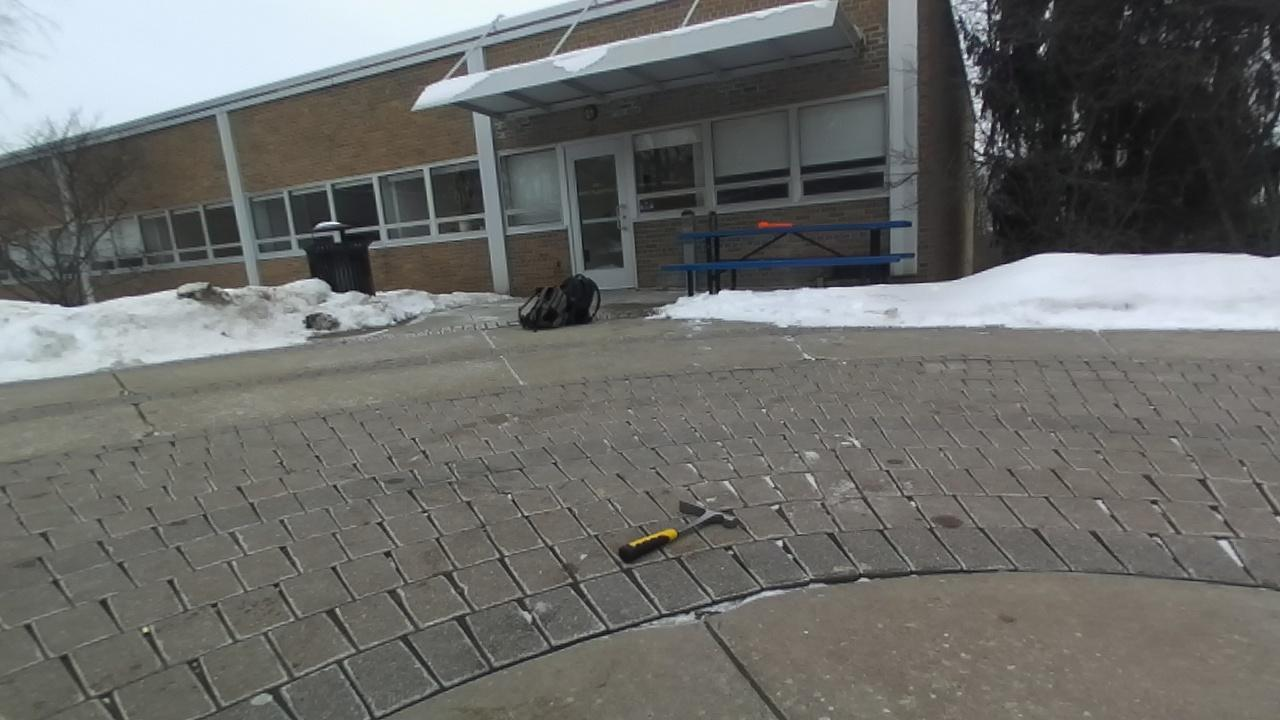mallet: (757, 222, 792, 228)
pick: (618, 500, 740, 562)
